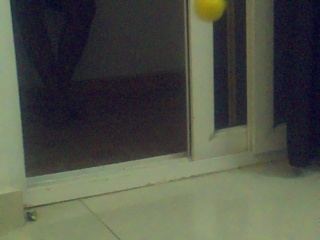ball: (194, 0, 226, 21)
